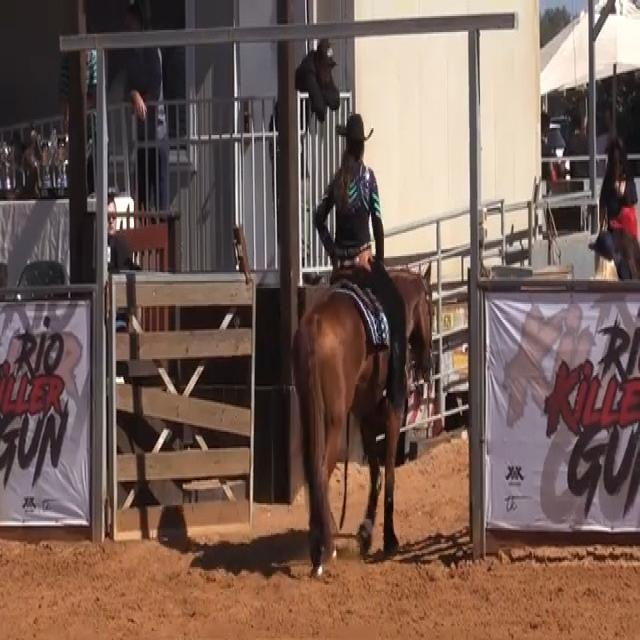horse: (288, 258, 436, 576)
